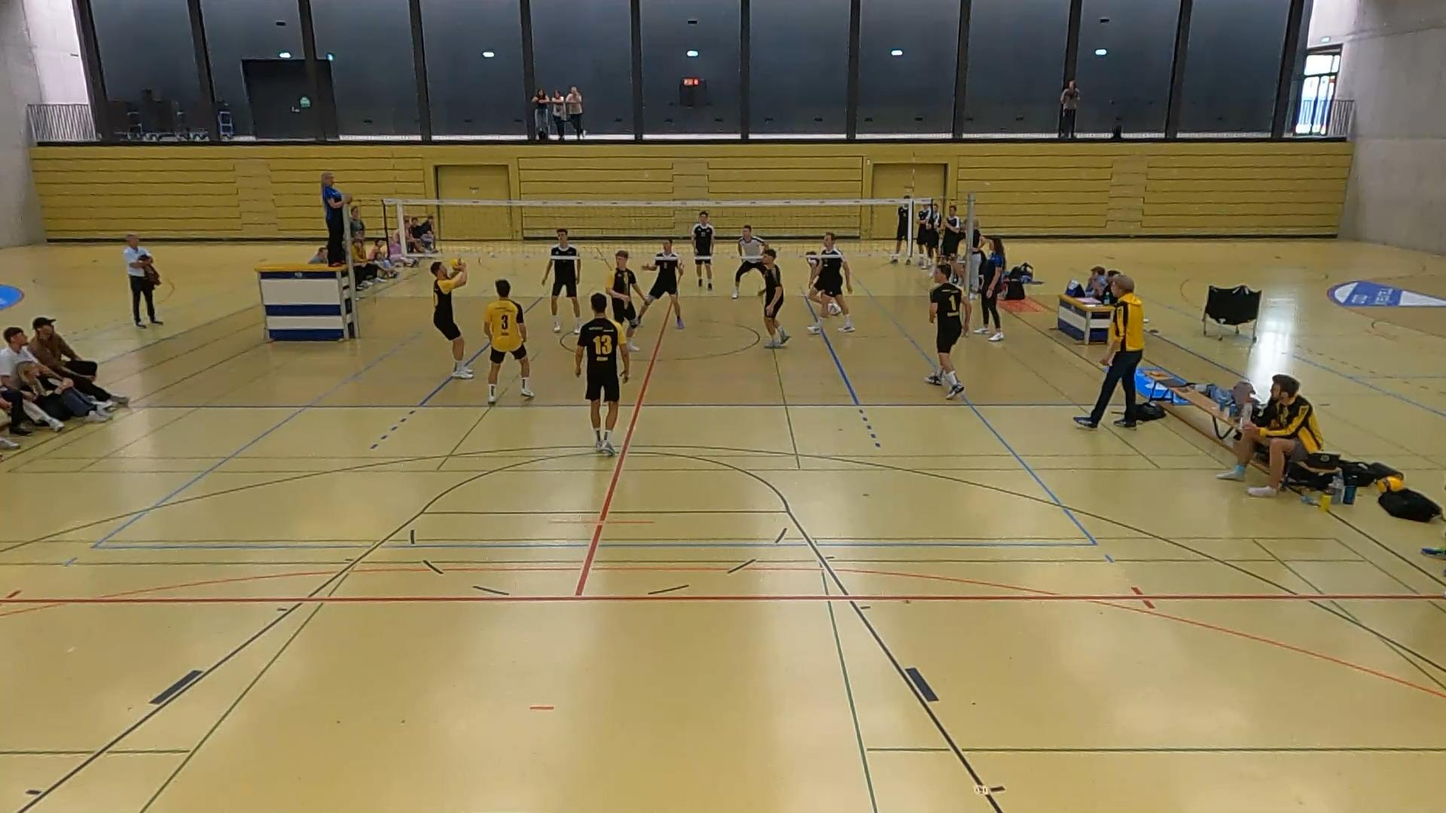Dig: (424, 255, 479, 384)
Player: (575, 293, 630, 455), (484, 279, 533, 404), (926, 262, 969, 398), (807, 232, 854, 334), (638, 239, 683, 329), (542, 228, 580, 333), (607, 249, 642, 352), (761, 248, 790, 349), (732, 225, 767, 299), (804, 250, 840, 315), (691, 210, 714, 290)
ball: (449, 255, 468, 273)
